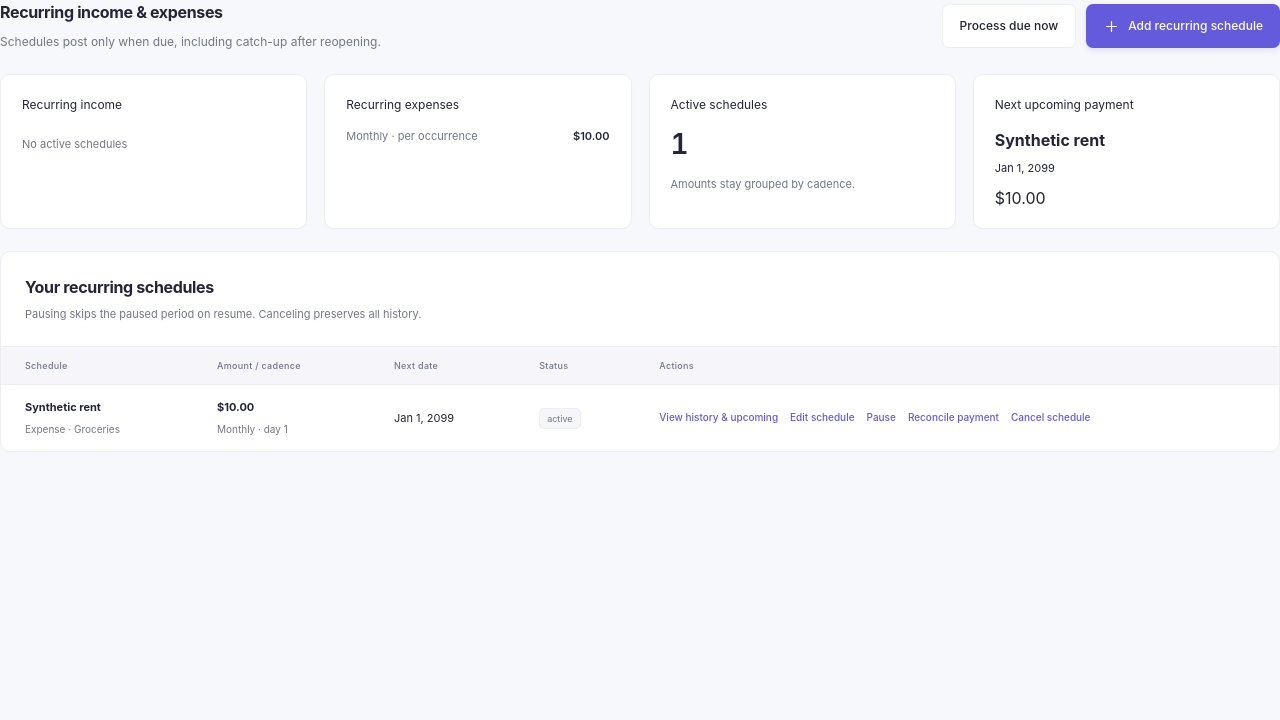
it: recurring workspace actions › requires explicit cancellation confirmation and sends the current version
The width and height of the screenshot is (1280, 720).
Expected: the heading "Your recurring schedules" is shown, [25,277,214,297]
Click the button "Cancel schedule" at (1051, 418), box [1011,410,1090,425]
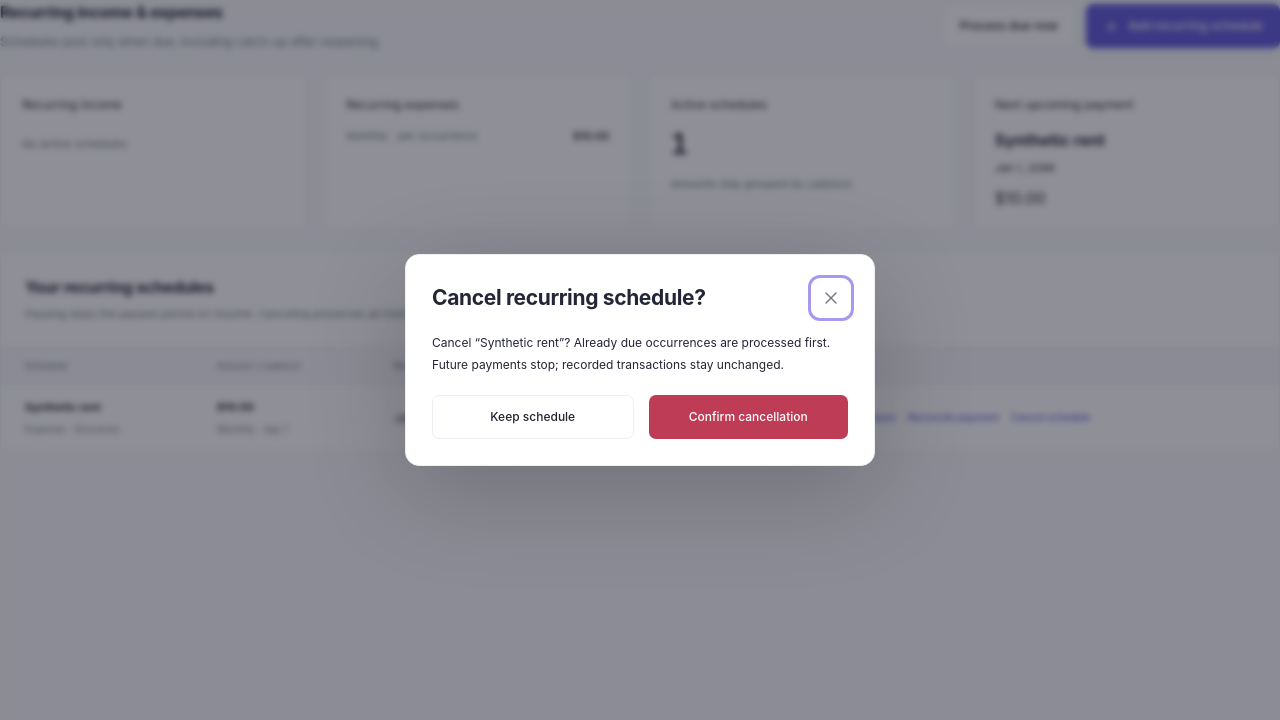
Expected: the text "recorded transactions stay unchanged" is shown, [432,335,830,372]
Click the button "Confirm cancellation" at (748, 417), box [648,395,848,439]
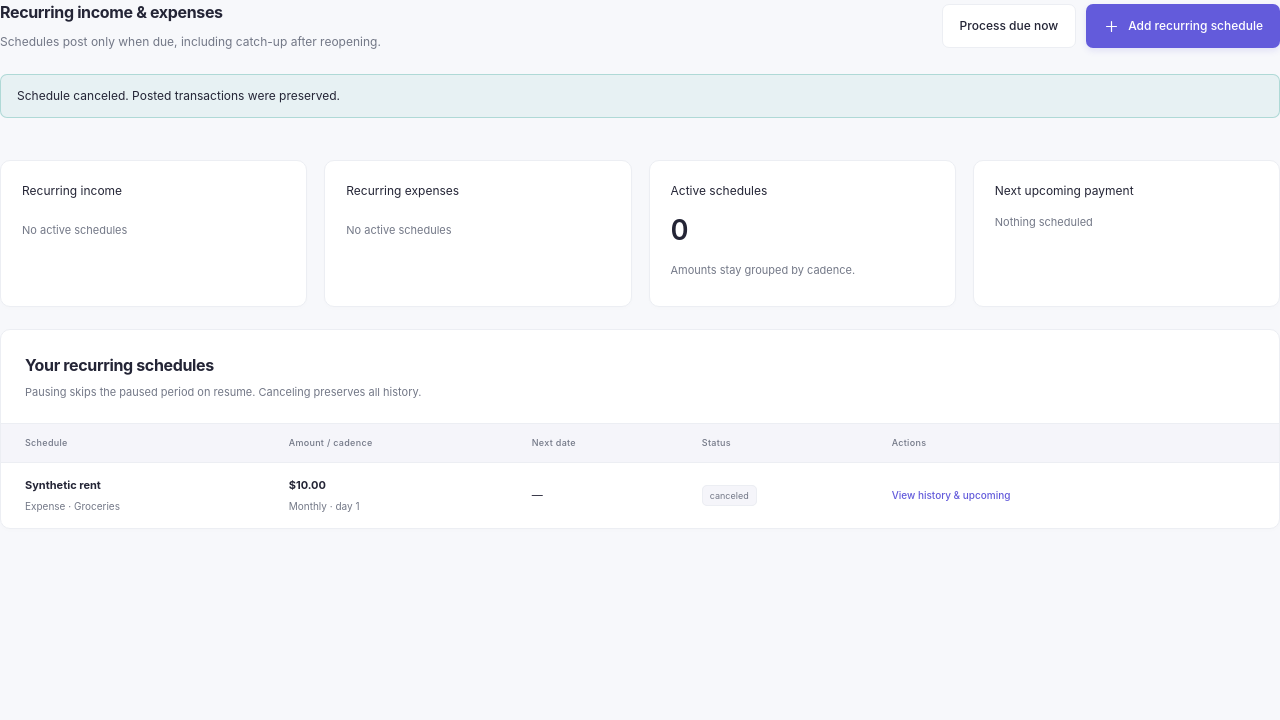
Expected: the text "canceled" is shown, [702,485,757,506]
Expected: the button "Cancel schedule" is gone
